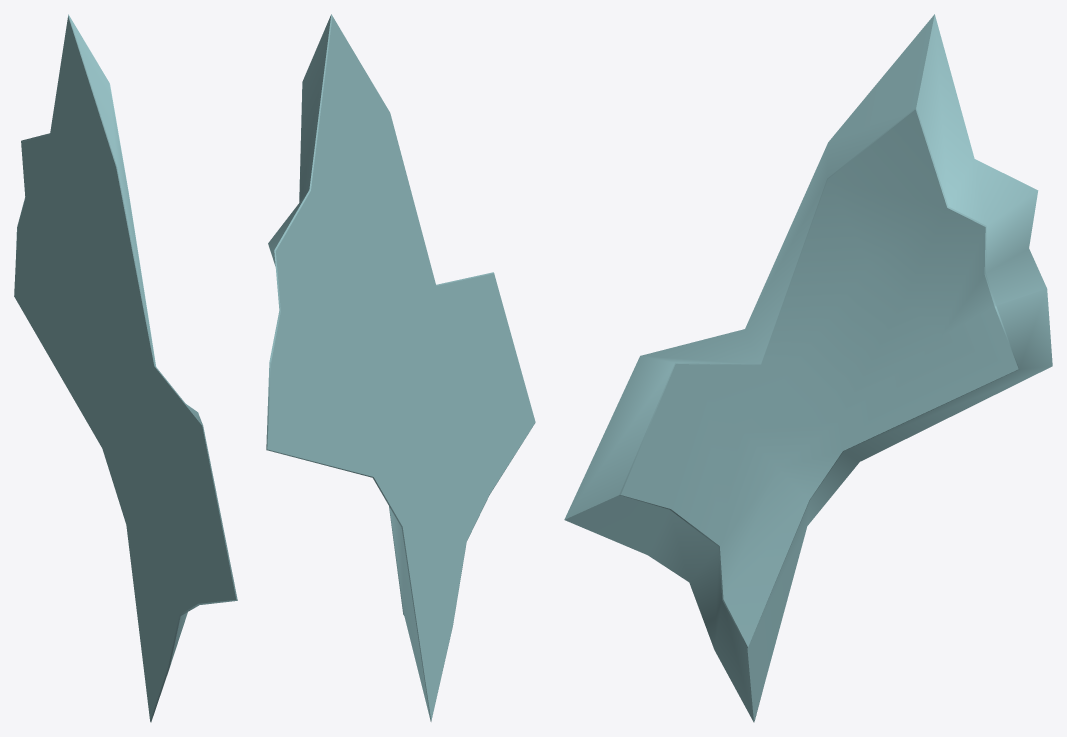
Rendered from IceSheet_06.fbx.
3 views of the same model, side by side, from view 1: azimuth 30°, elevation 25°; view 2: azimuth 150°, elevation 25°; view 3: azimuth 270°, elevation 25° (orthographic). The views are drawn at different scales.
Parts seen in each view (by area): view 1: IceSheet_06; view 2: IceSheet_06; view 3: IceSheet_06.
Part boxes in pixels (box(x1,y1,x2,y2)): IceSheet_06: box(14, 14, 237, 722); IceSheet_06: box(266, 14, 535, 721); IceSheet_06: box(564, 14, 1052, 722).
Size of the model in its own units: 1353 by 25101 by 15675.
